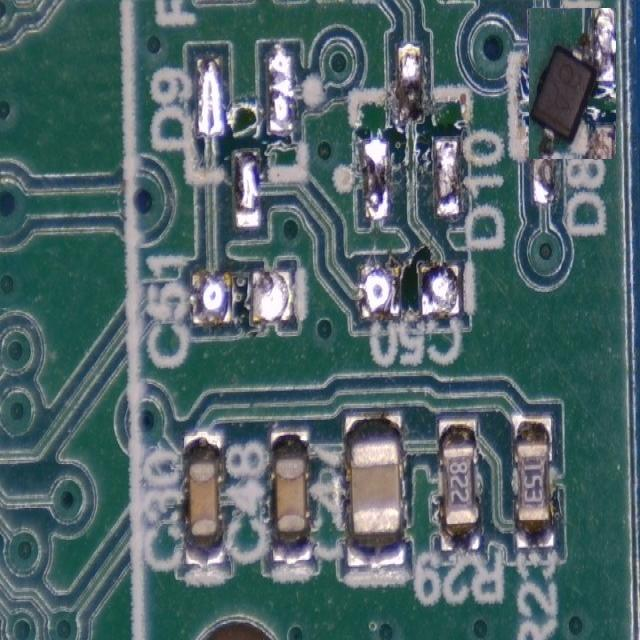Incorrect_installation: (529, 8, 616, 157)
